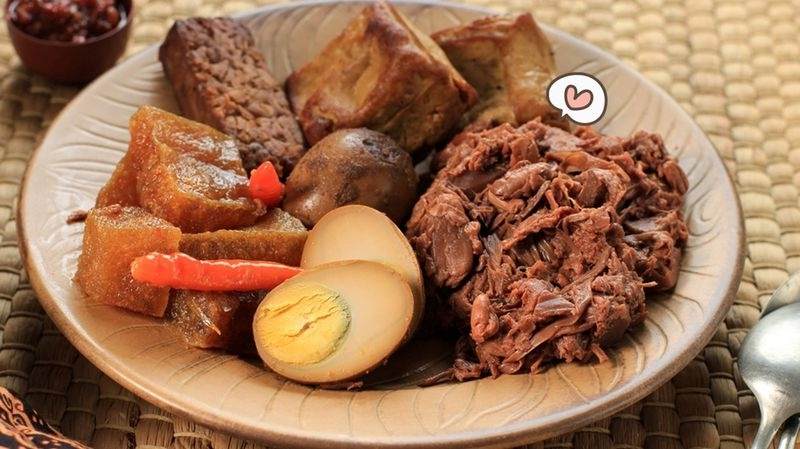gudeg: (74, 2, 692, 392)
